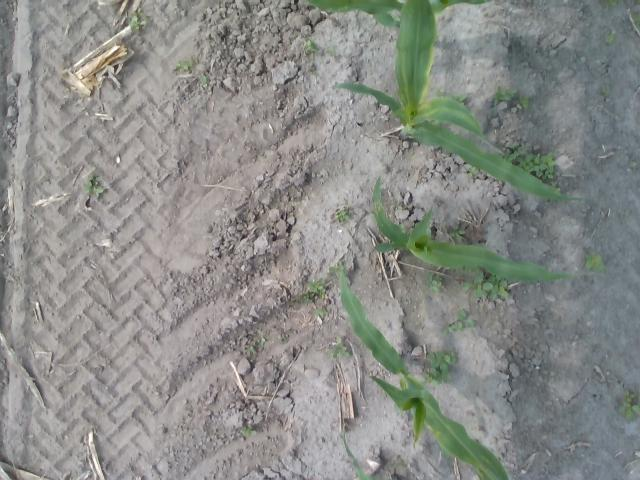Maize: (331, 0, 581, 201), (338, 263, 510, 480), (374, 176, 600, 282), (308, 0, 490, 28), (342, 432, 408, 480)
Weeds: (463, 272, 493, 298), (520, 152, 555, 171), (488, 276, 508, 301), (429, 352, 456, 370), (492, 86, 516, 105), (328, 336, 348, 358), (456, 308, 476, 328), (585, 252, 604, 272), (507, 142, 528, 160), (619, 402, 638, 419), (426, 274, 442, 293), (424, 367, 440, 384), (451, 224, 466, 241), (84, 182, 102, 196), (310, 277, 324, 292), (518, 94, 531, 108), (177, 59, 190, 72), (131, 16, 145, 28), (336, 210, 349, 222), (536, 169, 552, 178), (302, 40, 316, 50), (623, 390, 634, 402), (88, 172, 101, 182), (299, 293, 312, 303), (200, 76, 210, 88), (324, 44, 336, 54), (312, 306, 324, 316), (440, 370, 450, 382), (241, 426, 256, 434), (440, 326, 456, 333), (464, 166, 474, 176), (602, 0, 616, 7), (457, 93, 469, 101), (633, 14, 640, 26), (601, 85, 610, 94), (247, 346, 256, 354), (258, 336, 266, 344), (606, 35, 614, 42), (631, 161, 636, 167)
